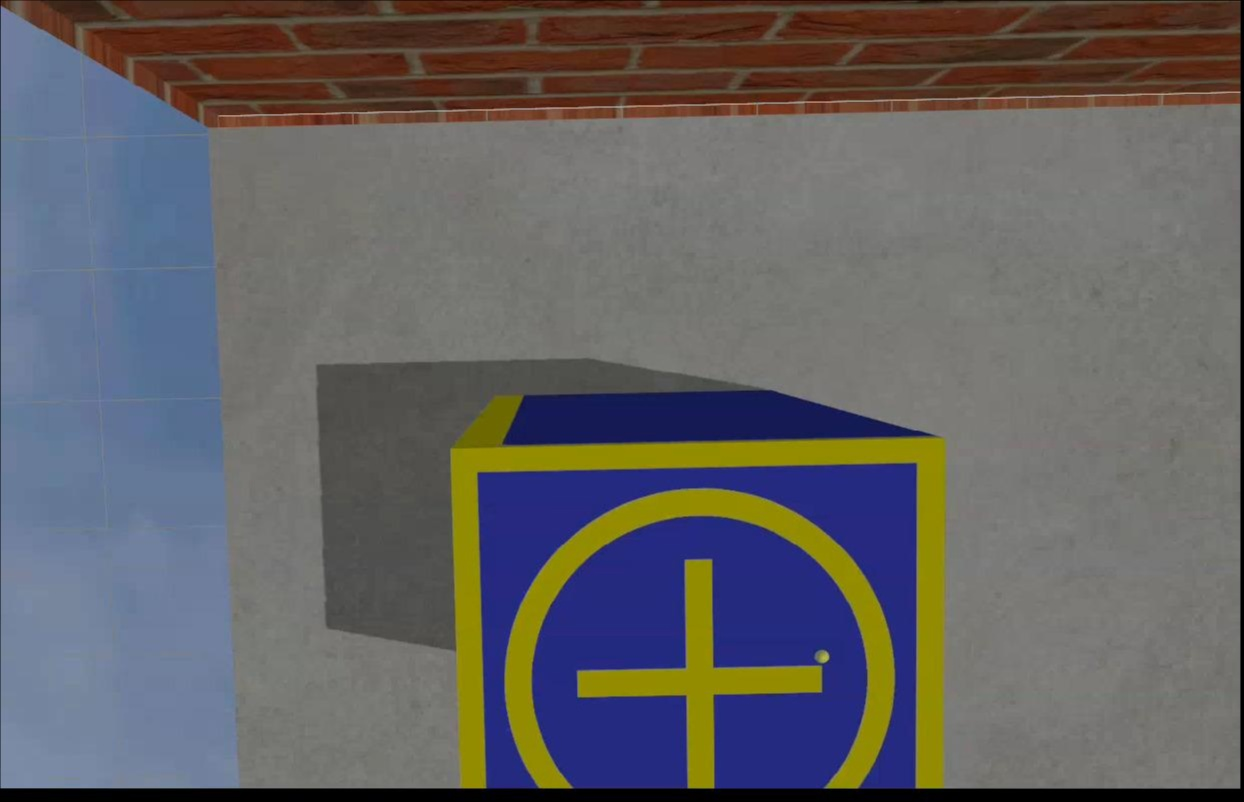small_base: (448, 434, 951, 798)
